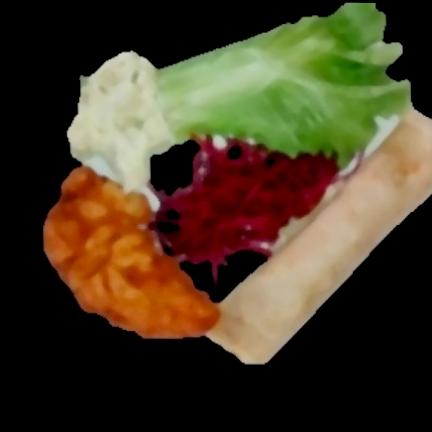beet: (156, 137, 337, 282)
chicken: (44, 167, 218, 337)
salad: (68, 3, 411, 189)
